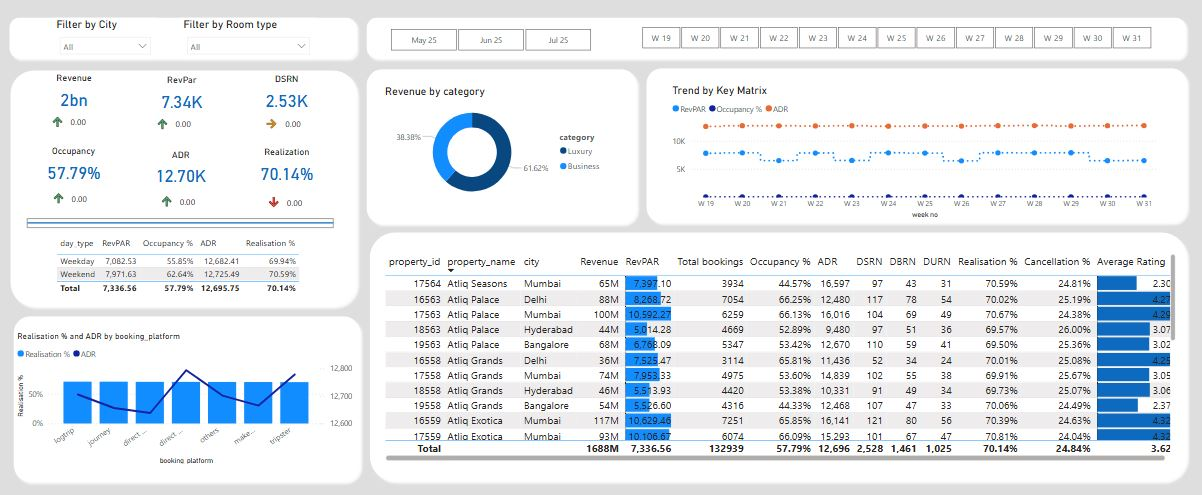

The page's visual inventory and layout, read from the dashboard file:
{"tool":"powerbi","page":{"name":"Dashboard","canvas":[1920,1080],"ordinal":0},"visuals":[{"type":"shape","box":[580,406.7,1300,406.7],"z":0},{"type":"shape","box":[20.4,539.1,560,275.7],"z":1000},{"type":"shape","box":[15,151.7,560,386.7],"z":2000},{"type":"shape","box":[575,150,440,258.3],"z":3000},{"type":"shape","box":[1015,148.3,865,258.3],"z":4000},{"type":"shape","box":[12.5,68.8,561.2,80],"z":5000},{"type":"shape","box":[575,68.3,1303.3,80],"z":6000},{"type":"tableEx","fields":{"Values":["dim_hotels.property_id","dim_hotels.property_name","dim_hotels.city","Key_mesures table.Revenue","Key_mesures table.RevPAR","Key_mesures table.Total bookings","Key_mesures table.Occupancy %","Key_mesures table.ADR","Key_mesures table.DSRN","Key_mesures table.DBRN","Key_mesures table.DURN","Key_mesures table.Realisation %"]},"box":[606.7,443.3,1226.7,335],"z":7000},{"type":"slicer","title":"Filter by City","fields":{"Values":["dim_hotels.city"]},"box":[90,76.7,163.3,65],"z":8000},{"type":"slicer","title":"Filter by Room type","fields":{"Values":["dim_rooms.room_class"]},"box":[290,76.7,213.3,65],"z":9000},{"type":"slicer","title":"Filter by Dates","fields":{"Values":["dim_date.mmm yy"]},"box":[595,88.3,365,46.7],"z":10000},{"type":"slicer","title":"Filter by Week No","fields":{"Values":["dim_date.week no"]},"box":[990,85,850,46.7],"z":11000},{"type":"tableEx","fields":{"Values":["Key_mesures table.Revenue WoW change %"]},"box":[81.2,204.1,81.2,55],"z":12000},{"type":"card","title":"Revenue","fields":{"Values":["Key_mesures table.Revenue"]},"box":[47.5,164.1,148.8,66.2],"z":13000},{"type":"tableEx","fields":{"Values":["Key_mesures table.Revpar WoW change %"]},"box":[247.3,206.1,81.2,55],"z":14000},{"type":"card","title":"RevPar","fields":{"Values":["Key_mesures table.RevPAR"]},"box":[218.6,166.1,147.5,66.2],"z":15000},{"type":"tableEx","fields":{"Values":["Key_mesures table.DSRN WoW change %"]},"box":[416.5,234.6,81.2,55],"z":16000},{"type":"card","title":"DSRN","fields":{"Values":["Key_mesures table.DSRN"]},"box":[384,165,147.5,66.2],"z":17000},{"type":"tableEx","fields":{"Values":["Key_mesures table.Occupancy WoW change %"]},"box":[82.5,324.1,81.2,55],"z":18000},{"type":"card","title":"Occupancy","fields":{"Values":["Key_mesures table.Occupancy %"]},"box":[47.5,279.1,147.5,66.2],"z":19000},{"type":"tableEx","fields":{"Values":["Key_mesures table.ADR WoW change %"]},"box":[252.5,329.1,81.2,55],"z":20000},{"type":"card","title":"ADR","fields":{"Values":["Key_mesures table.ADR"]},"box":[216.8,282.9,147.5,66.2],"z":21000},{"type":"tableEx","fields":{"Values":["Key_mesures table.Realisation WoW change %"]},"box":[421.5,329.3,81.2,55],"z":22000},{"type":"card","title":"Realization","fields":{"Values":["Key_mesures table.Realisation %"]},"box":[384,280.6,147.5,66.2],"z":23000},{"type":"donutChart","fields":{"Category":["dim_hotels.category"],"Y":["Key_mesures table.Revenue"]},"box":[606.7,181.7,358.3,193.3],"z":24000},{"type":"lineChart","title":"Trend by Key Matrix","fields":{"Category":["dim_date.week no","dim_date.wn"],"Y":["Key_mesures table.RevPAR","Key_mesures table.Occupancy %","Key_mesures table.ADR"]},"box":[1058.3,180,775,216.7],"z":25000},{"type":"lineStackedColumnComboChart","fields":{"Category":["fact_bookings.booking_platform"],"Y":["Key_mesures table.Realisation %"],"Y2":["Key_mesures table.ADR"]},"box":[29,570.5,537.1,212.9],"z":26000},{"type":"tableEx","fields":{"Values":["dim_date.day_type","Key_mesures table.RevPAR","Key_mesures table.Occupancy %","Key_mesures table.ADR","Key_mesures table.Realisation %"]},"box":[90,415,405,110],"z":27000},{"type":"shape","box":[48.3,391.7,483.3,15],"z":28000}]}

Visuals, with their boxes on the page's 1920x1080 design canvas (x1, y1, x2, y2). These are canvas units, not pixel positions in the 1202x495 screenshot, which may show the page scaled, cropped or inside an application window:
shape: region(580, 407, 1880, 813)
shape: region(20, 539, 580, 815)
shape: region(15, 152, 575, 538)
shape: region(575, 150, 1015, 408)
shape: region(1015, 148, 1880, 407)
shape: region(12, 69, 574, 149)
shape: region(575, 68, 1878, 148)
tableEx - dim_hotels.property_id x dim_hotels.property_name: region(607, 443, 1833, 778)
"Filter by City" slicer: region(90, 77, 253, 142)
"Filter by Room type" slicer: region(290, 77, 503, 142)
"Filter by Dates" slicer: region(595, 88, 960, 135)
"Filter by Week No" slicer: region(990, 85, 1840, 132)
tableEx - Key_mesures table.Revenue WoW change %: region(81, 204, 162, 259)
"Revenue" card: region(48, 164, 196, 230)
tableEx - Key_mesures table.Revpar WoW change %: region(247, 206, 328, 261)
"RevPar" card: region(219, 166, 366, 232)
tableEx - Key_mesures table.DSRN WoW change %: region(416, 235, 498, 290)
"DSRN" card: region(384, 165, 532, 231)
tableEx - Key_mesures table.Occupancy WoW change %: region(82, 324, 164, 379)
"Occupancy" card: region(48, 279, 195, 345)
tableEx - Key_mesures table.ADR WoW change %: region(252, 329, 334, 384)
"ADR" card: region(217, 283, 364, 349)
tableEx - Key_mesures table.Realisation WoW change %: region(422, 329, 503, 384)
"Realization" card: region(384, 281, 532, 347)
donutChart - dim_hotels.category x Key_mesures table.Revenue: region(607, 182, 965, 375)
"Trend by Key Matrix" lineChart: region(1058, 180, 1833, 397)
lineStackedColumnComboChart - fact_bookings.booking_platform x Key_mesures table.Realisation %: region(29, 570, 566, 783)
tableEx - dim_date.day_type x Key_mesures table.RevPAR: region(90, 415, 495, 525)
shape: region(48, 392, 532, 407)
